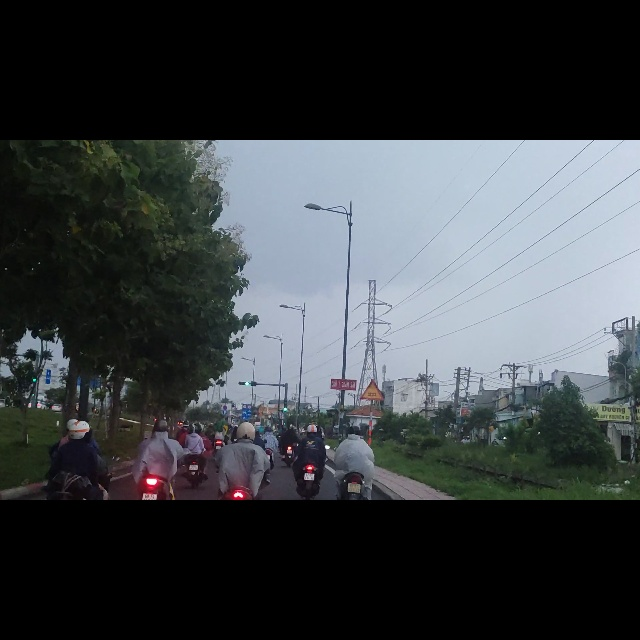bien_chi_dan: (360, 426, 384, 463)
